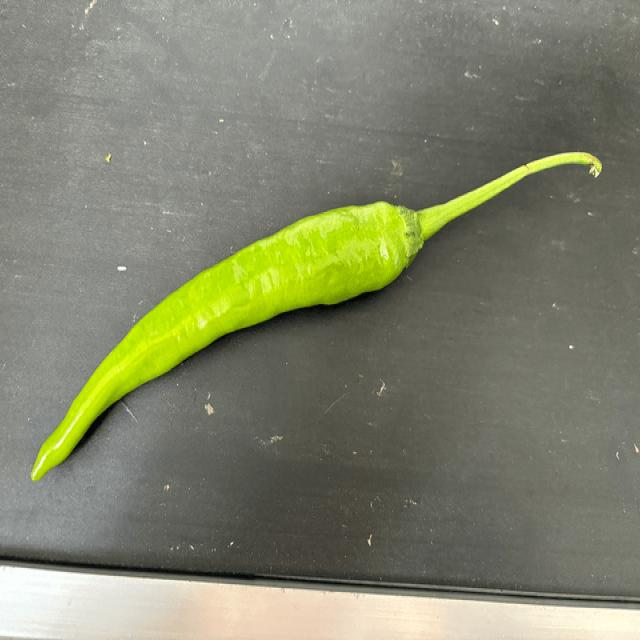chili: (29, 198, 426, 489)
